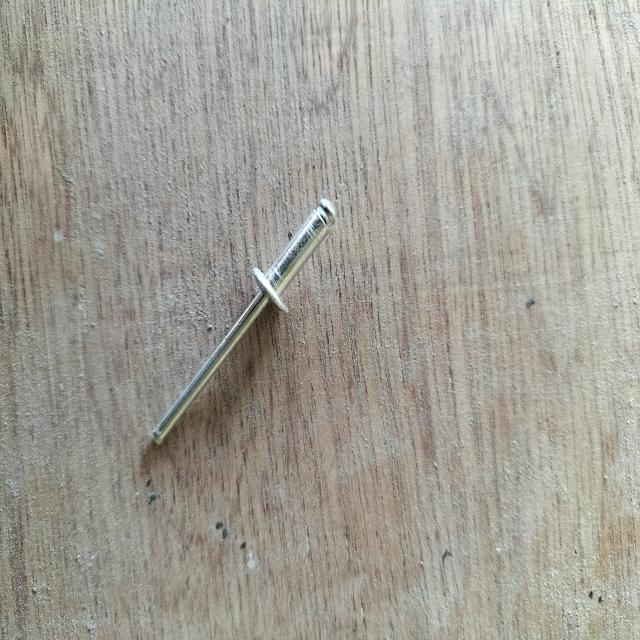rivet: (151, 199, 336, 445)
